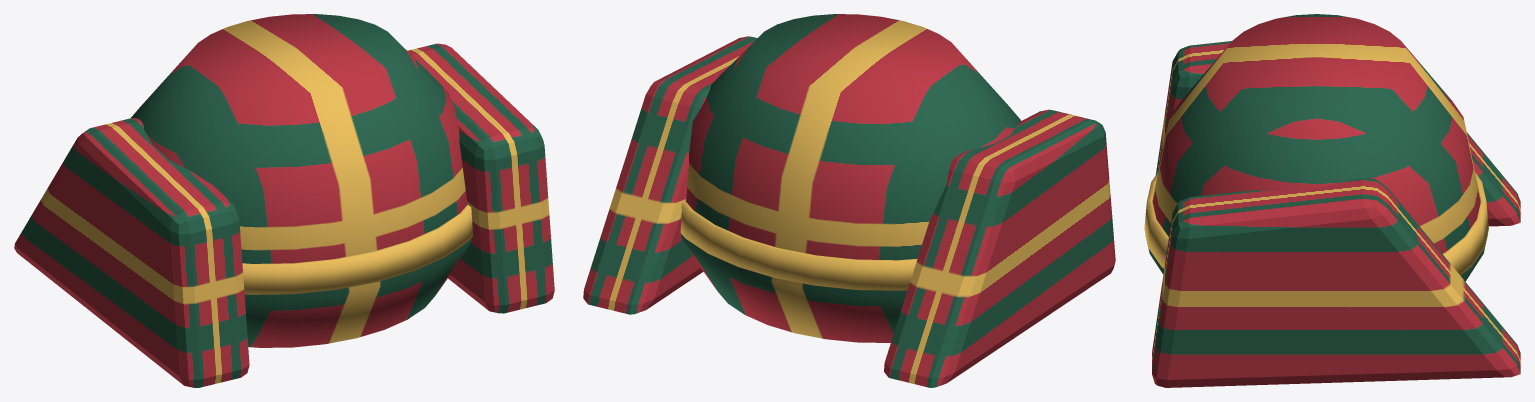
File: ACC_TH_ANCIENT_EGYPT_Primary.fbx
The picture shows the model from 3 angles, left to right: view 1: azimuth 30°, elevation 25°; view 2: azimuth 150°, elevation 25°; view 3: azimuth 270°, elevation 25°; orthographic projection. The views are drawn at different scales.
Parts seen in each view (by area): view 1: ACC_TH_ANCIENT_EGYPT_Primary; view 2: ACC_TH_ANCIENT_EGYPT_Primary; view 3: ACC_TH_ANCIENT_EGYPT_Primary.
Boxes of the visible parts, bbox=[...] form: ACC_TH_ANCIENT_EGYPT_Primary: bbox=[14, 14, 554, 387]; ACC_TH_ANCIENT_EGYPT_Primary: bbox=[583, 14, 1115, 387]; ACC_TH_ANCIENT_EGYPT_Primary: bbox=[1144, 14, 1520, 387].
Size of the model in its own units: 71 by 44 by 60.9.
